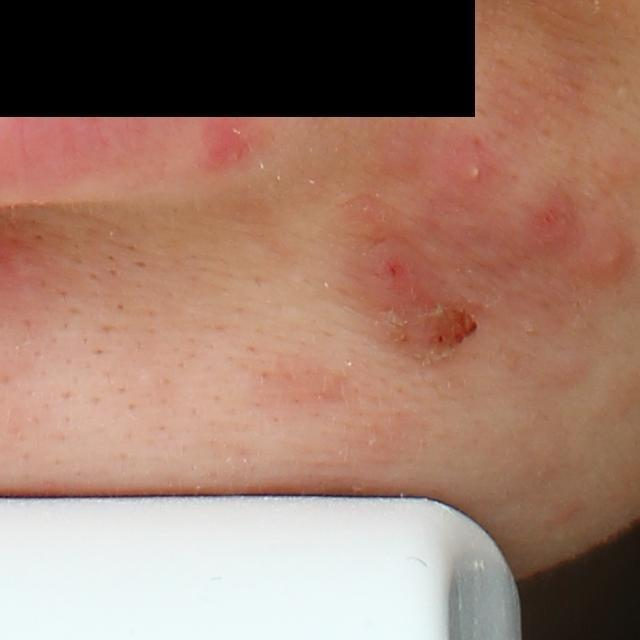papule: (356, 236, 442, 328), (200, 117, 268, 177), (523, 195, 585, 254), (583, 228, 635, 286), (344, 193, 397, 239)
